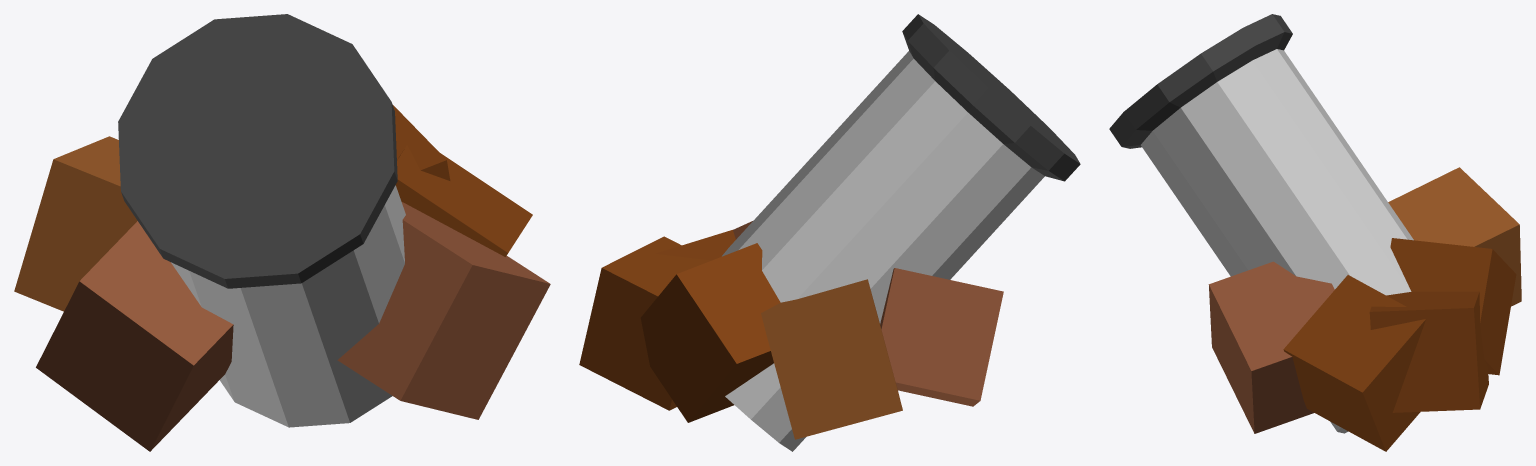
Rendered from Capsual site.fbx.
The picture shows the model from 3 angles, left to right: view 1: azimuth 30°, elevation 25°; view 2: azimuth 150°, elevation 25°; view 3: azimuth 270°, elevation 25°; orthographic projection. The views are drawn at different scales.
Visible parts, largest first — view 1: Cylinder.044; view 2: Cylinder.044; view 3: Cylinder.044.
Boxes of the visible parts, <box> form: Cylinder.044: <box>14,14,550,451</box>; Cylinder.044: <box>579,14,1080,451</box>; Cylinder.044: <box>1109,14,1521,451</box>.
Size of the model in its own units: 0.7792 by 0.74 by 0.7621.
